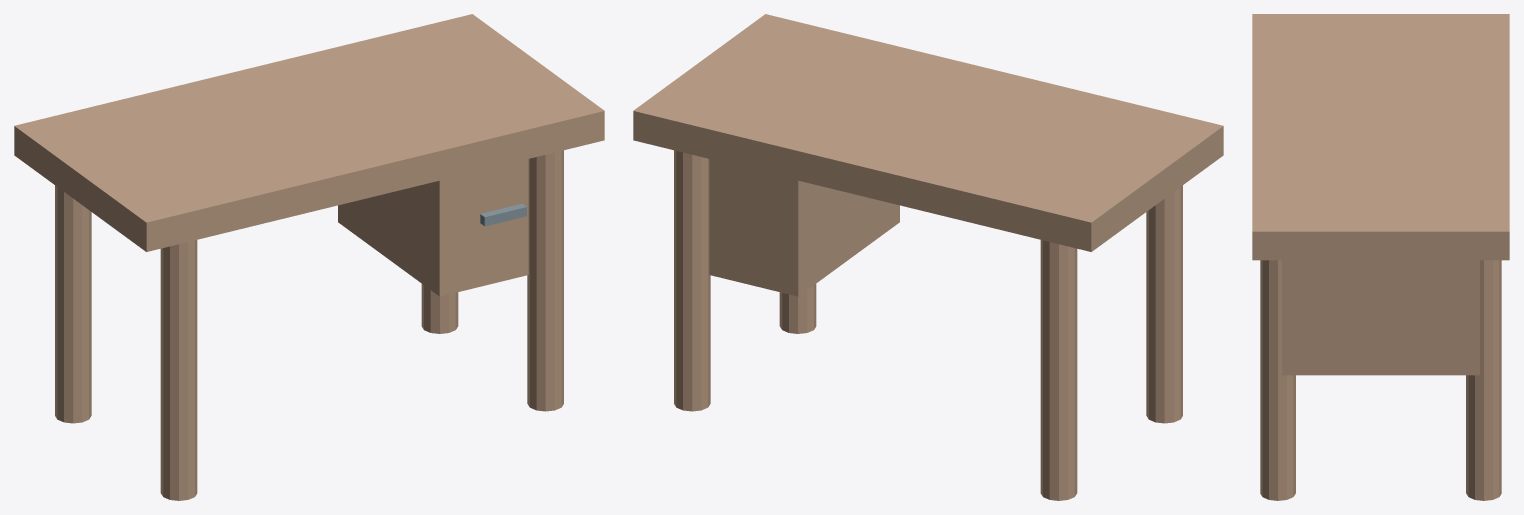
File: desk.glb
3 views of the same model, side by side, from view 1: azimuth 30°, elevation 25°; view 2: azimuth 150°, elevation 25°; view 3: azimuth 270°, elevation 25° (orthographic). The views are drawn at different scales.
Parts seen in each view (by area): view 1: desk_000, desk_005, desk_001, desk_003, desk_002, desk_004, desk_006; view 2: desk_000, desk_005, desk_002, desk_004, desk_001, desk_003; view 3: desk_000, desk_005, desk_003, desk_004.
Boxes of the visible parts, bbox=[...] form: desk_000: bbox=[14, 14, 604, 251]; desk_005: bbox=[338, 159, 528, 296]; desk_001: bbox=[160, 240, 197, 500]; desk_003: bbox=[527, 150, 563, 411]; desk_002: bbox=[55, 185, 91, 423]; desk_004: bbox=[421, 284, 458, 333]; desk_006: bbox=[480, 203, 526, 226]; desk_000: bbox=[633, 14, 1223, 251]; desk_005: bbox=[709, 159, 899, 296]; desk_002: bbox=[1040, 240, 1077, 500]; desk_004: bbox=[674, 150, 710, 411]; desk_001: bbox=[1146, 185, 1182, 423]; desk_003: bbox=[779, 284, 816, 333]; desk_000: bbox=[1252, 14, 1509, 260]; desk_005: bbox=[1282, 260, 1479, 375]; desk_003: bbox=[1260, 260, 1295, 500]; desk_004: bbox=[1466, 260, 1501, 500].
Bounding box in the file's own units: 1.3 × 0.79 × 0.65.
